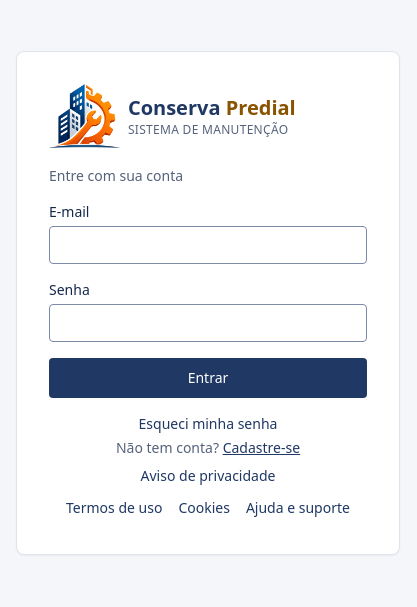
Login com verificação em duas etapas › o passo do código diz de qual conta se trata, pelo e-mail que o servidor confirmou
The image size is (417, 607).
# Digitado com outra caixa: a conta é a que o servidor devolveu.
Type "ANA@Exemplo.com" into the field labelled "E-mail" at (208, 245), box [49,226,367,264]
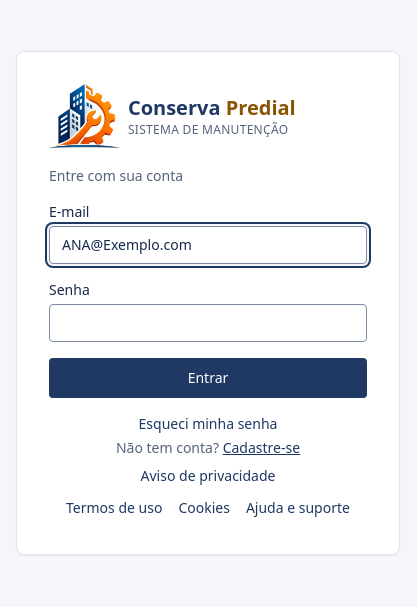
Type "senha-teste-123" into the password field labelled "Senha" at (208, 323), box [49,304,367,342]
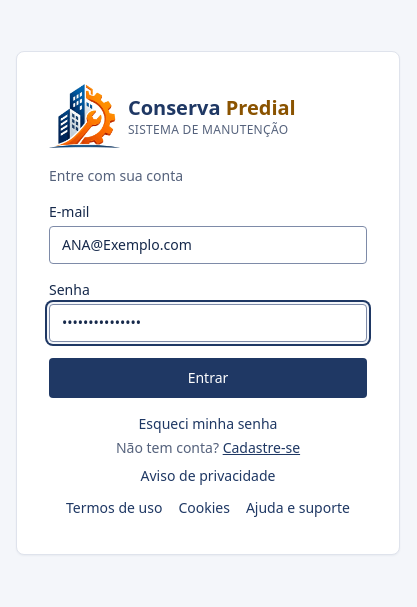
Click the button "Entrar" at (208, 378), box [49,358,367,398]
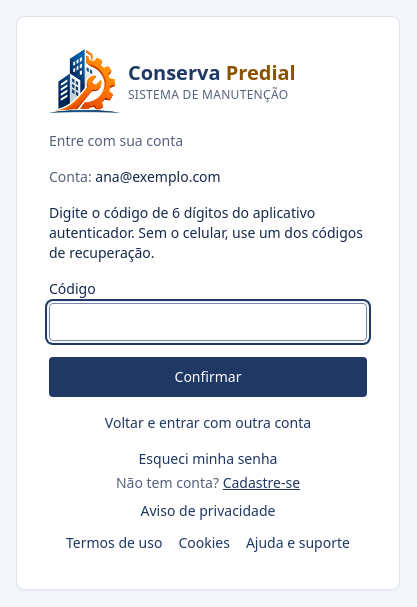
Expected: the field labelled "Código" is shown, [49,303,367,341]
Expected: the text "ana@exemplo.com" is shown, [95,167,221,186]
